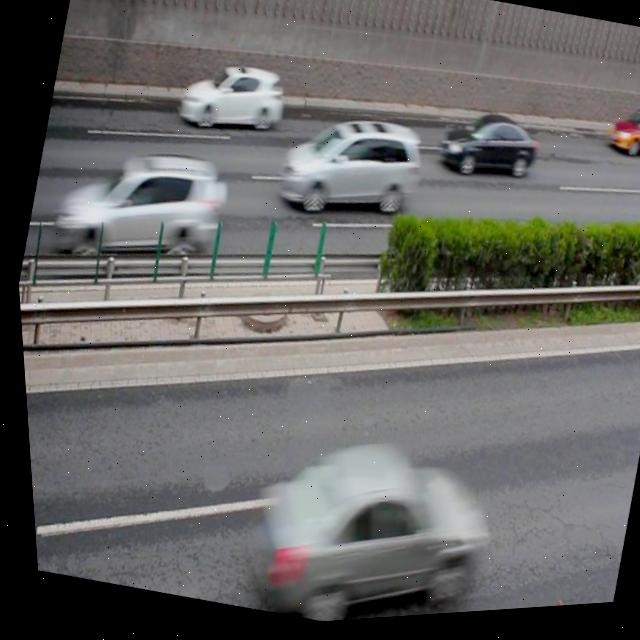car: (219, 412, 493, 630), (39, 124, 236, 287), (169, 48, 291, 149), (430, 104, 542, 198), (595, 103, 640, 175)
truck: (265, 98, 428, 241)
